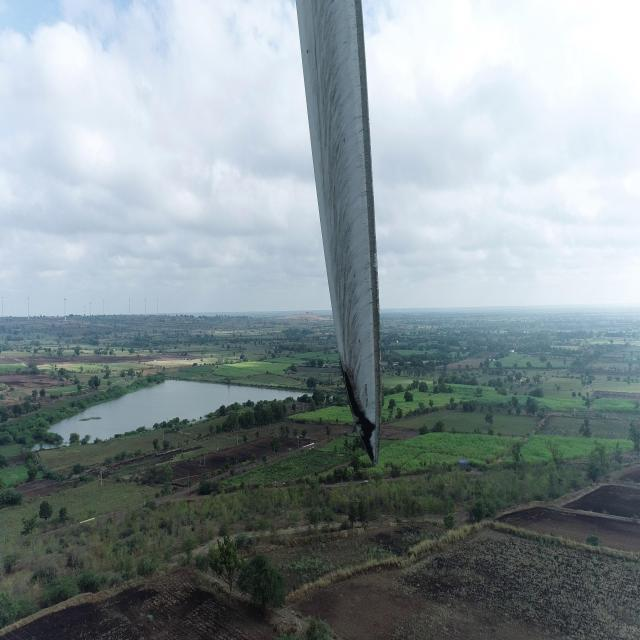Dirt: (299, 0, 386, 458)
Oil LEAKAGE: (344, 373, 380, 464)
Pin Hole: (369, 419, 378, 434)
